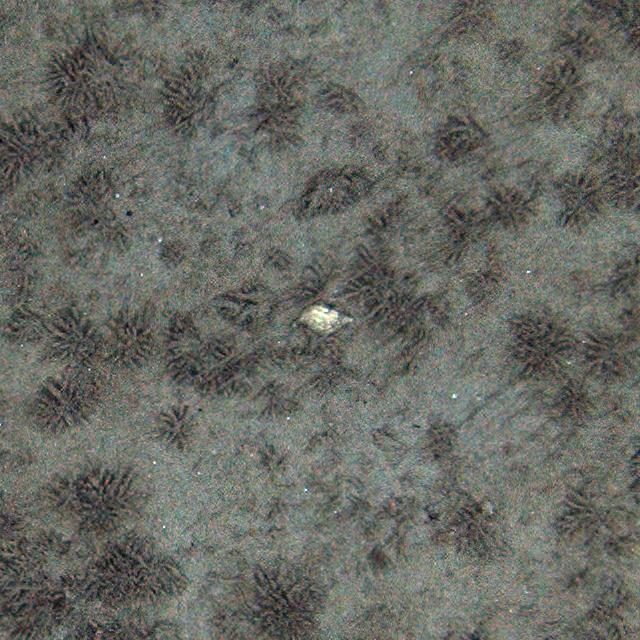whelk: (294, 297, 357, 340)
